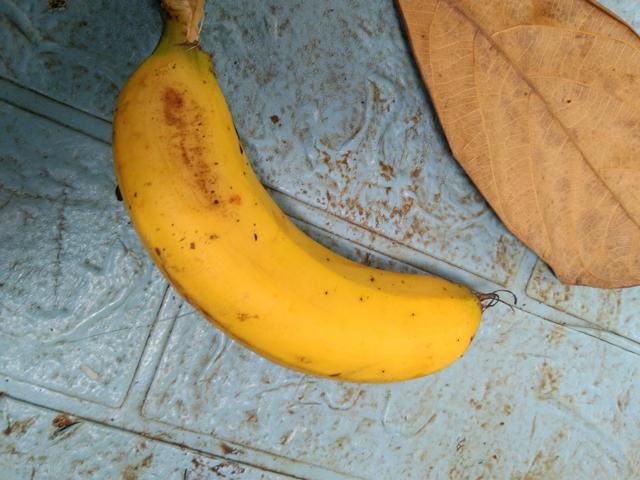freshripe: (107, 40, 485, 387)
